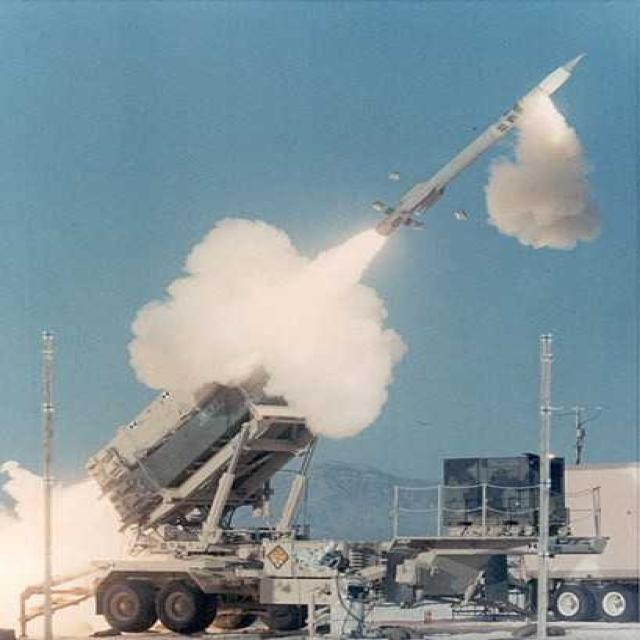missile: (368, 46, 594, 255)
